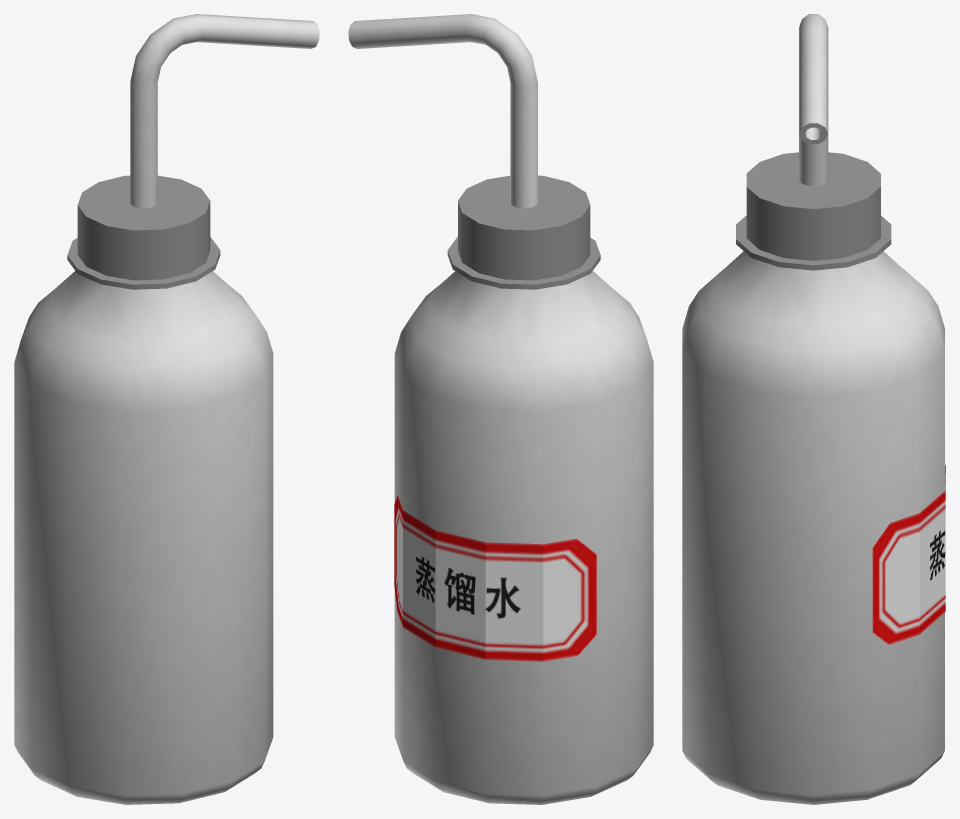
The picture shows the model from 3 angles, left to right: view 1: azimuth 30°, elevation 25°; view 2: azimuth 150°, elevation 25°; view 3: azimuth 270°, elevation 25°; orthographic projection. The views are drawn at different scales.
Visible parts, largest first — view 1: SM_水; view 2: SM_水; view 3: SM_水.
Part boxes in pixels (box(x1,y1,x2,y2)): SM_水: box(14, 14, 319, 804); SM_水: box(348, 14, 653, 804); SM_水: box(682, 14, 945, 804).
Bounding box in the file's own units: 0.0866 × 0.213 × 0.067.
